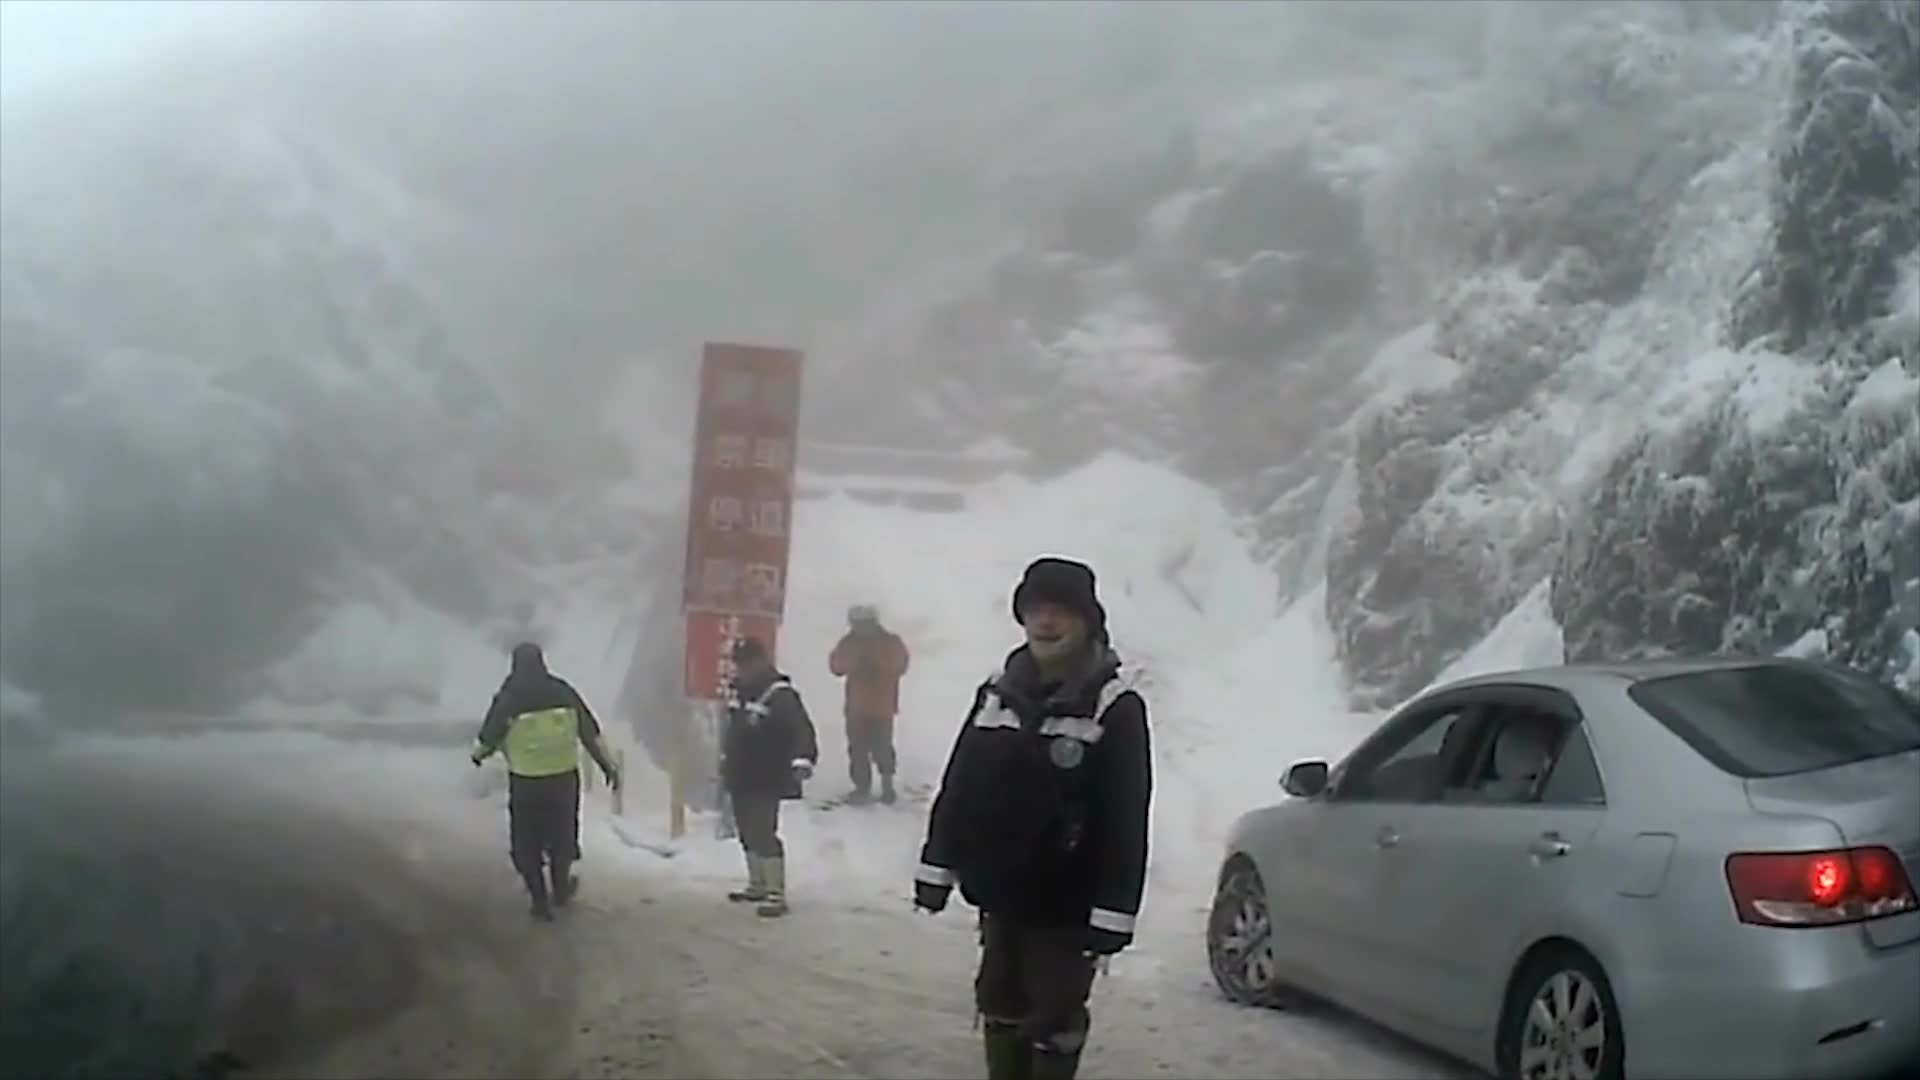pedestrian: (904, 558, 1154, 1080), (472, 650, 624, 926), (722, 639, 826, 913), (834, 606, 918, 807)
vehicle: (1206, 657, 1920, 1080)
